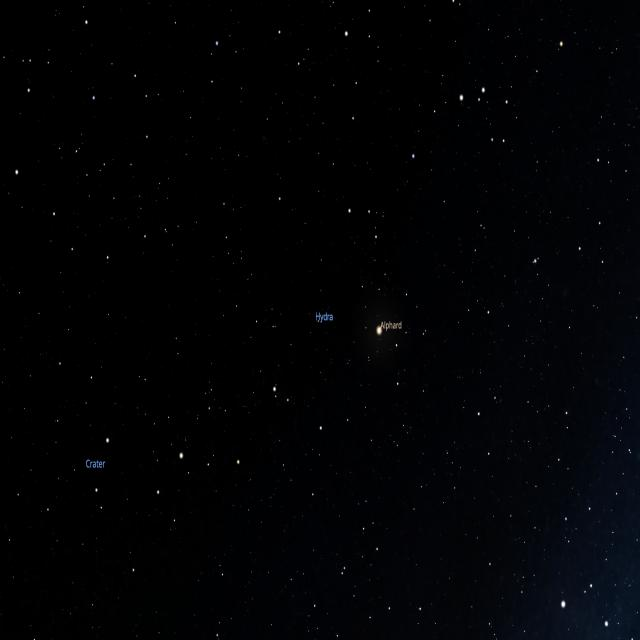Hydra: (126, 82, 510, 640)
